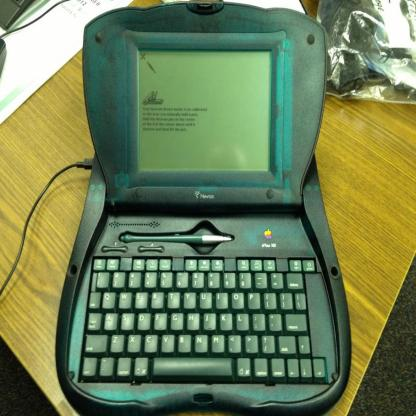board: (51, 23, 348, 407)
